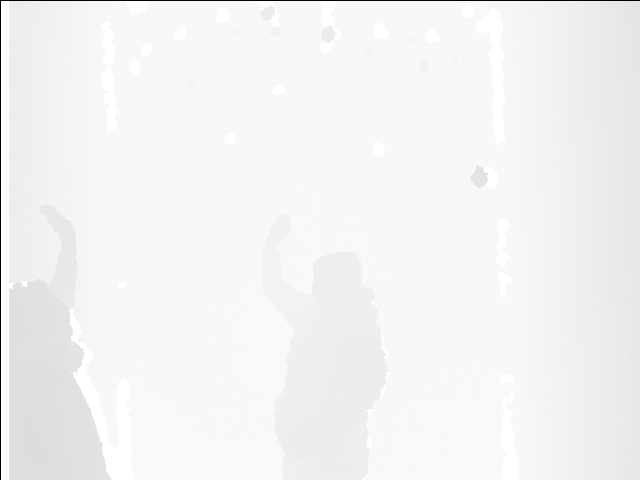hand: (39, 202, 80, 240), (265, 212, 294, 255)
